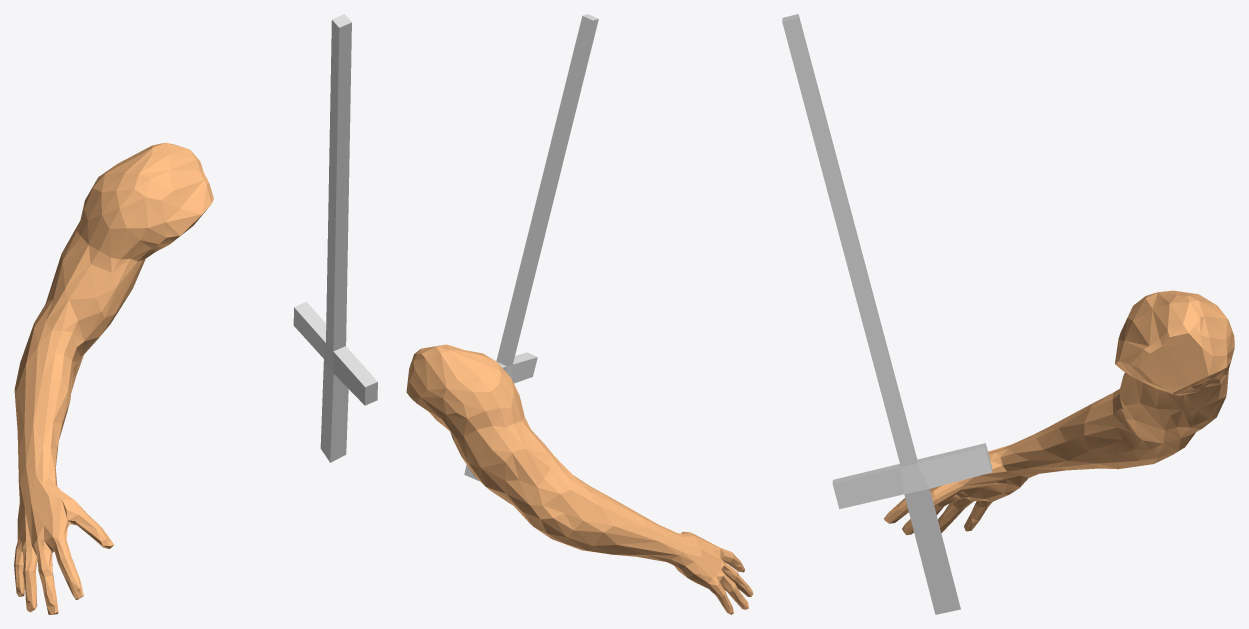
File: swordSwing.fbx
3 renders of one model, left to right at view 1: azimuth 30°, elevation 25°; view 2: azimuth 150°, elevation 25°; view 3: azimuth 270°, elevation 25°, orthographic. The views are drawn at different scales.
Visible parts, largest first — view 1: Arms_Mesh, Proto_sword; view 2: Arms_Mesh, Proto_sword; view 3: Arms_Mesh, Proto_sword.
Boxes of the visible parts, <box> form: Arms_Mesh: <box>14,142,213,614</box>; Proto_sword: <box>293,14,377,462</box>; Arms_Mesh: <box>406,344,753,614</box>; Proto_sword: <box>464,14,598,480</box>; Arms_Mesh: <box>884,290,1234,535</box>; Proto_sword: <box>782,14,992,614</box>.
Size of the model in its own units: 249 by 433 by 272.
